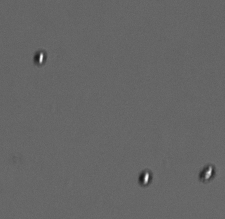Living Cell: (198, 163, 215, 183), (137, 169, 153, 188), (32, 49, 48, 66)
